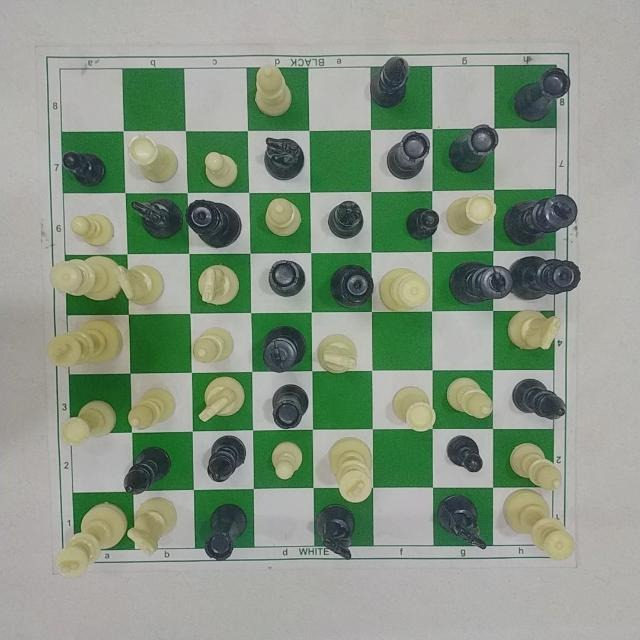black-bishop: (507, 373, 573, 425), (118, 446, 179, 496), (202, 431, 257, 485), (324, 192, 371, 246), (372, 52, 412, 114)
black-king: (507, 189, 582, 250), (447, 259, 512, 311), (260, 324, 309, 372)
black-knight: (431, 489, 492, 558), (315, 502, 363, 560), (257, 130, 309, 182), (129, 196, 182, 242)
black-pawn: (56, 140, 112, 186), (445, 431, 484, 479), (402, 203, 441, 246)
black-queen: (514, 255, 583, 302), (187, 196, 244, 246), (329, 260, 377, 309)
black-rook: (509, 65, 575, 124), (446, 120, 502, 175), (203, 501, 251, 564), (384, 125, 435, 183), (268, 382, 316, 432), (267, 257, 313, 299)
white-bishop: (507, 433, 563, 494), (445, 368, 497, 424), (125, 383, 180, 435), (252, 61, 298, 119), (188, 324, 241, 368), (263, 193, 310, 241)
white-king: (49, 500, 130, 580), (44, 317, 127, 371), (326, 433, 384, 505)
white-knight: (126, 499, 184, 557), (505, 305, 566, 354), (197, 373, 252, 425), (194, 260, 246, 308), (115, 262, 169, 308), (316, 330, 364, 376)
white-pawn: (67, 207, 117, 249), (201, 146, 247, 190), (267, 437, 307, 483)
white-queen: (500, 483, 584, 563), (44, 255, 118, 307), (377, 266, 435, 312)
white-rook: (122, 124, 185, 187), (57, 394, 123, 454), (389, 382, 439, 436), (447, 190, 495, 237)
